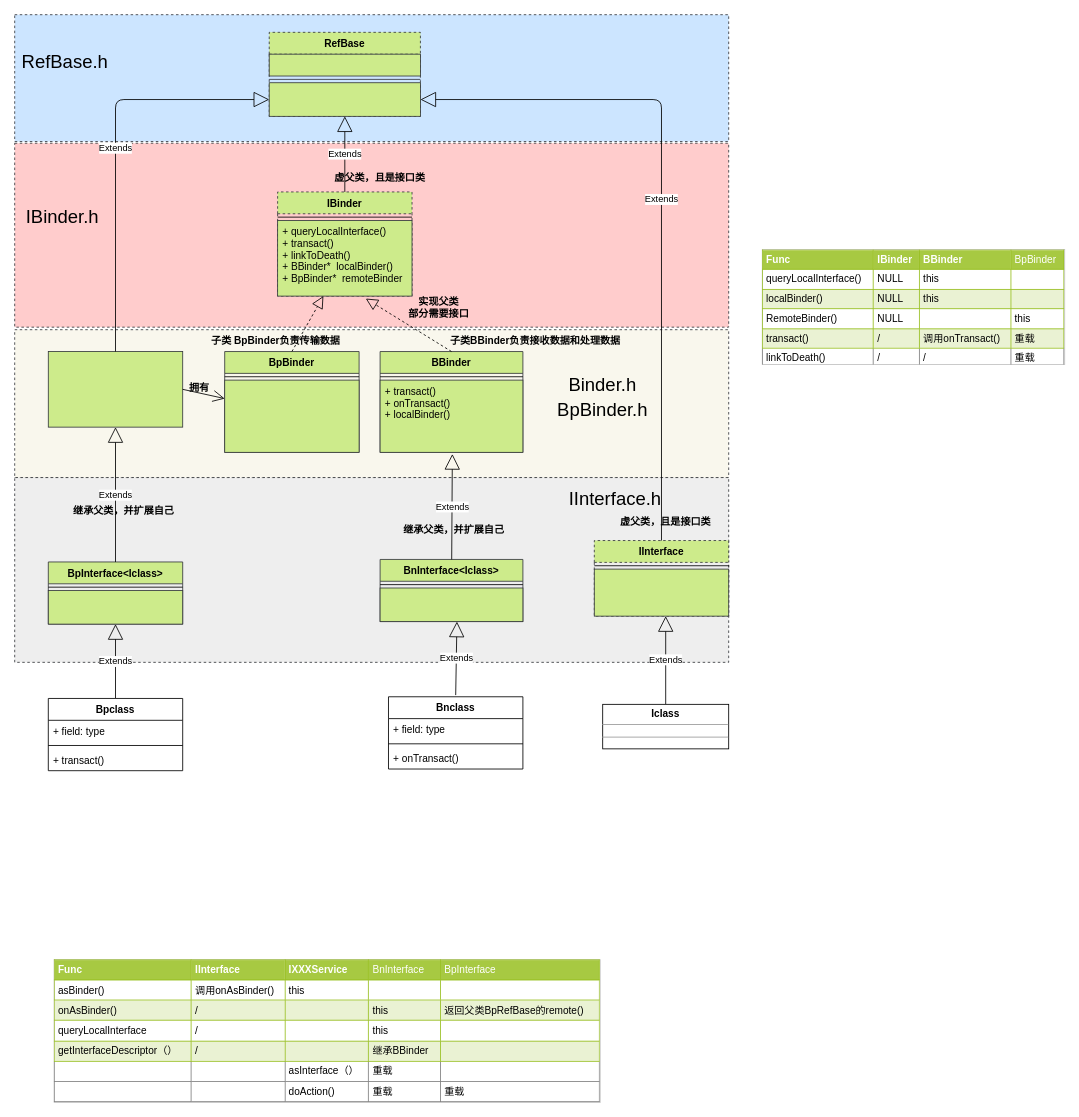
Some shapes in this 1079 by 1117 pixel diagram are drawn without their labels. Each missing label, with the centre of its shape:
+ asBinder() # onAsBinder(): [661,592]
+ inc/decStrong(id) + inc/decWeak(id): [344,99]
+ onAsBinder(): remote(): [115,607]
+ queryLocalInterface() + onAsBinder() : this: [451,604]
+ Transact() + linkToDeath() + remoteBinder(): [291,415]
- weakref_impl* const mRefs: [344,64]
BpRefBase - IBinder* const mRemote + remote(): IBinder*: [115,389]
